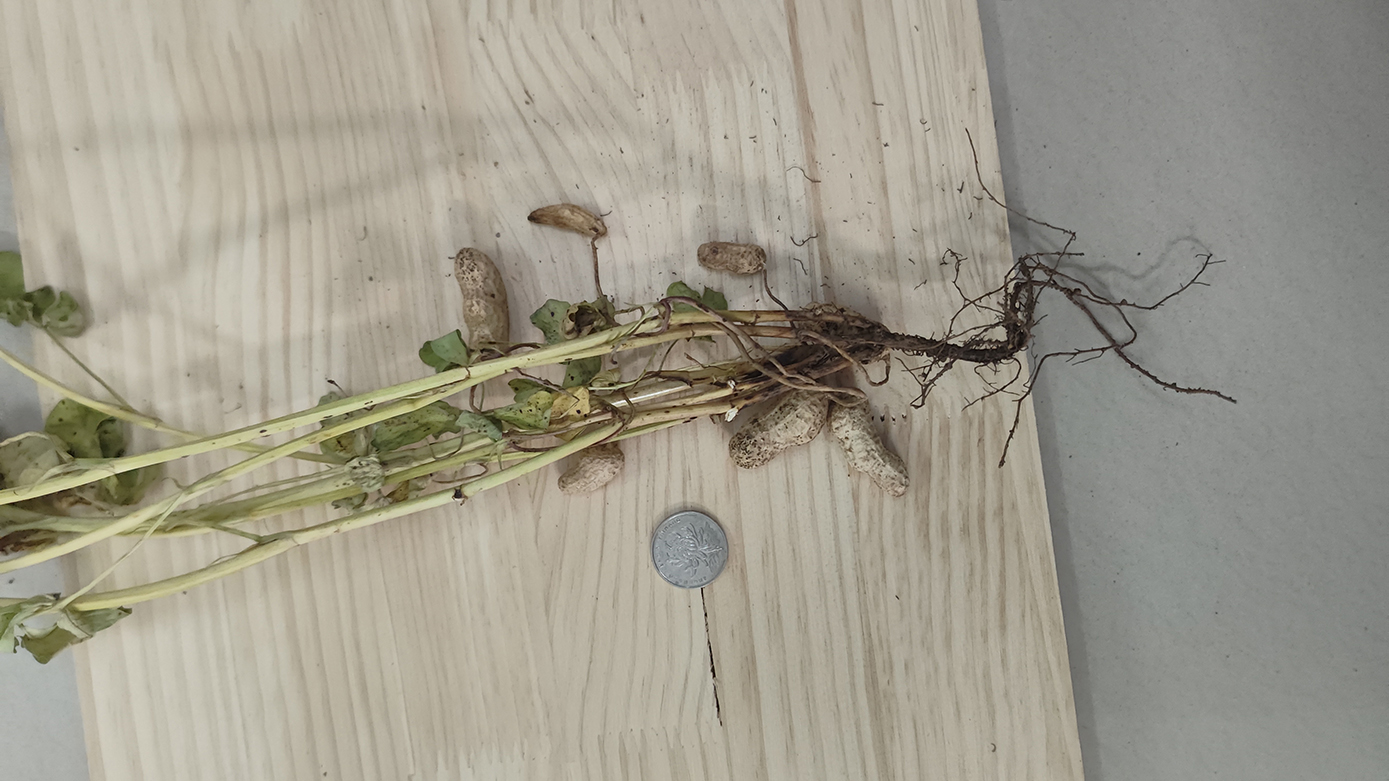h: (728, 385, 828, 469), (829, 399, 910, 498), (454, 247, 509, 356), (558, 449, 625, 496), (697, 240, 766, 276), (803, 300, 862, 315)
l: (527, 203, 609, 238)
